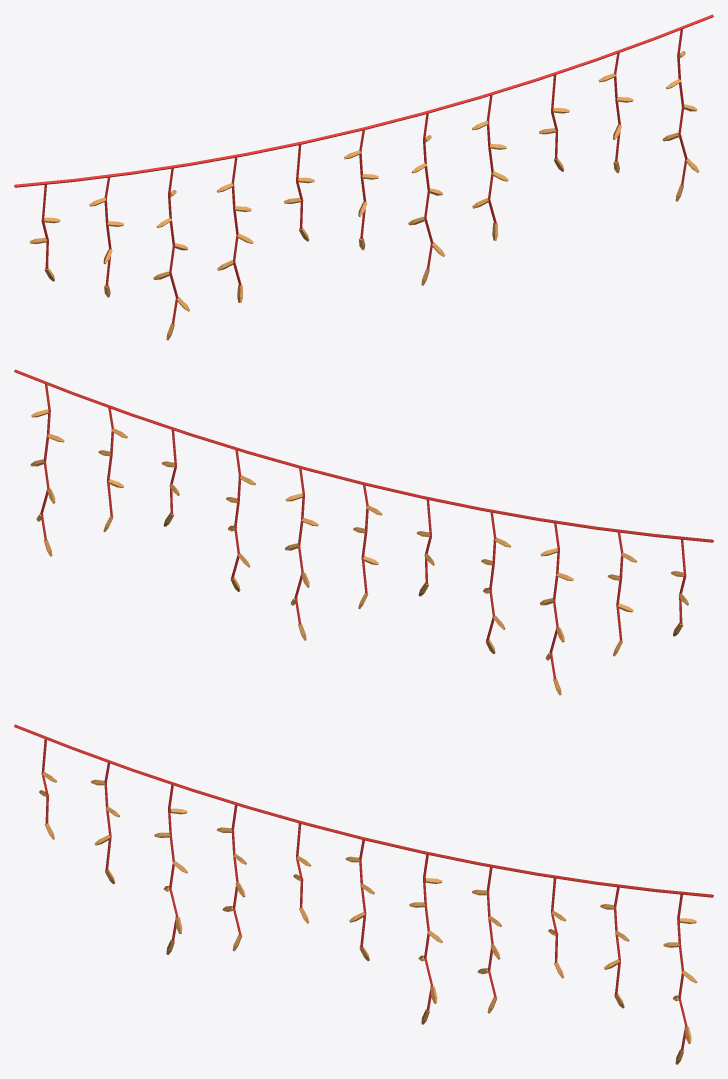
The model's file is SM_Light_String_White_3m_Christmas.fbx.
3 views of the same model, one above another, from view 1: azimuth 30°, elevation 25°; view 2: azimuth 150°, elevation 25°; view 3: azimuth 330°, elevation 25° (orthographic).
Parts seen in each view (by area): view 1: light-string-white-3m-christmas; view 2: light-string-white-3m-christmas; view 3: light-string-white-3m-christmas.
Boxes of the visible parts, <box> form: light-string-white-3m-christmas: <box>14,14,713,340</box>; light-string-white-3m-christmas: <box>14,369,713,695</box>; light-string-white-3m-christmas: <box>14,724,713,1064</box>.
Bounding box in the file's own units: 3 × 0.8236 × 0.0886.
